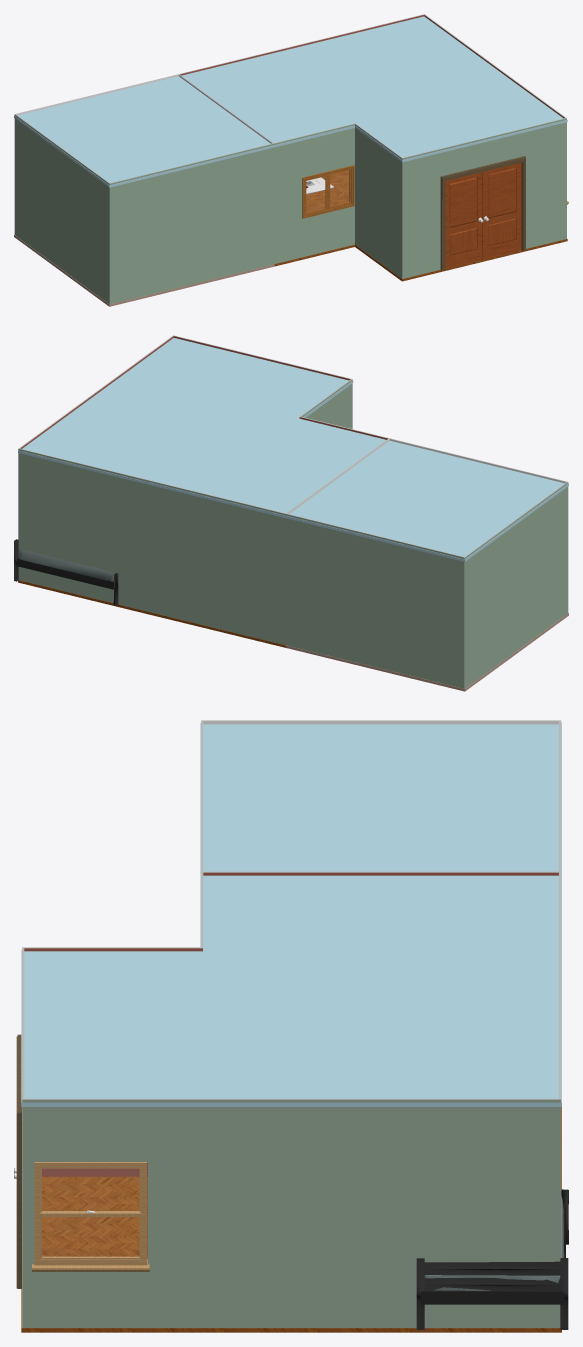
The model's file is ProcTHOR-Train-44.glb.
The picture shows the model from 3 angles, top to bottom: view 1: azimuth 30°, elevation 25°; view 2: azimuth 150°, elevation 25°; view 3: azimuth 270°, elevation 25°; orthographic projection. The views are drawn at different scales.
Visible parts, largest first — view 1: Ceiling#room|2|c, WallInside#wall|exterior|5.80|3.87|9.66|3.87, Ceiling#room|3|c, WallInside#wall|exterior|0.00|5.80|3.87|5.80, WallInside#wall|exterior|9.66|0.00|9.66|3.87, WallInside#wall|exterior|3.87|3.87|5.80|3.87, WallInside#wall|exterior|3.87|3.87|3.87|5.80, Doorway_Door_4b, Doorway_Door_4a, Floor#room|2|f, Doorway_Double_4, Window_Slider_48x36 (+4 smaller); view 2: Ceiling#room|2|c, WallInside#wall|exterior|0.00|0.00|5.80|0.00, WallInside#wall|exterior|5.80|0.00|9.66|0.00, Ceiling#room|3|c, WallInside#wall|exterior|9.66|0.00|9.66|3.87, Bed_19, WallInside#wall|exterior|3.87|3.87|3.87|5.80, Floor#room|3|f, Floor#room|2|f, WallInside#wall|3|5.80|3.87|9.66|3.87, WallInside#wall|2|0.00|5.80|3.87|5.80; view 3: Ceiling#room|2|c, WallInside#wall|exterior|0.00|0.00|0.00|5.80, Ceiling#room|3|c, Floor#room|2|f, Bed_19, Window_Hung_48x44, WallInside#wall|2|3.87|3.87|3.87|5.80, Doorway_Double_4, WallInside#wall|3|9.66|0.00|9.66|3.87, WallInside#wall|2|5.80|0.00|5.80|3.87.
Boxes of the visible parts, x1,y1,x2,y2 form: Ceiling#room|2|c: [179, 16, 567, 162]; WallInside#wall|exterior|5.80|3.87|9.66|3.87: [109, 143, 274, 304]; Ceiling#room|3|c: [14, 76, 274, 187]; WallInside#wall|exterior|0.00|5.80|3.87|5.80: [402, 118, 566, 278]; WallInside#wall|exterior|9.66|0.00|9.66|3.87: [14, 114, 109, 303]; WallInside#wall|exterior|3.87|3.87|5.80|3.87: [273, 123, 354, 264]; WallInside#wall|exterior|3.87|3.87|3.87|5.80: [355, 124, 402, 278]; Doorway_Door_4b: [482, 162, 521, 259]; Doorway_Door_4a: [445, 172, 482, 268]; Floor#room|2|f: [274, 170, 567, 281]; Doorway_Double_4: [440, 156, 525, 270]; Window_Slider_48x36: [302, 165, 354, 218]; Ceiling#room|2|c: [18, 338, 388, 518]; WallInside#wall|exterior|0.00|0.00|5.80|0.00: [18, 448, 286, 645]; WallInside#wall|exterior|5.80|0.00|9.66|0.00: [285, 514, 464, 688]; Ceiling#room|3|c: [285, 440, 568, 561]; WallInside#wall|exterior|9.66|0.00|9.66|3.87: [465, 482, 568, 688]; Bed_19: [14, 539, 118, 605]; WallInside#wall|exterior|3.87|3.87|3.87|5.80: [300, 379, 352, 428]; Floor#room|3|f: [285, 613, 568, 691]; Floor#room|2|f: [18, 580, 286, 647]; WallInside#wall|3|5.80|3.87|9.66|3.87: [389, 438, 566, 483]; WallInside#wall|2|0.00|5.80|3.87|5.80: [173, 336, 350, 380]; Ceiling#room|2|c: [21, 874, 561, 1106]; WallInside#wall|exterior|0.00|0.00|0.00|5.80: [22, 1099, 560, 1327]; Ceiling#room|3|c: [200, 723, 561, 875]; Floor#room|2|f: [21, 1107, 561, 1332]; Bed_19: [416, 1189, 568, 1329]; Window_Hung_48x44: [32, 1162, 149, 1271]; WallInside#wall|2|3.87|3.87|3.87|5.80: [22, 947, 202, 1176]; Doorway_Double_4: [16, 1034, 21, 1288]; WallInside#wall|3|9.66|0.00|9.66|3.87: [203, 721, 560, 724]; WallInside#wall|2|5.80|0.00|5.80|3.87: [203, 872, 558, 875].
Bounding box in the file's own units: 9.81 × 2.77 × 5.99.
Materials: 140 (50 with a texture image).
